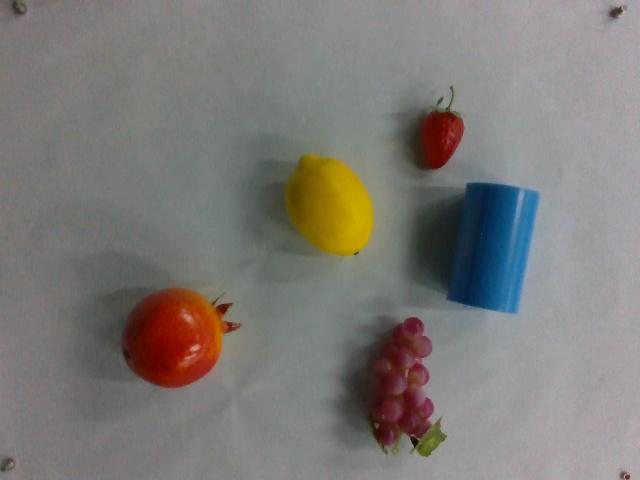cylinder: (446, 179, 541, 315)
grape: (364, 312, 445, 459)
lemon: (287, 153, 373, 260)
pomegranate: (118, 289, 240, 391)
strawberry: (419, 85, 466, 171)
